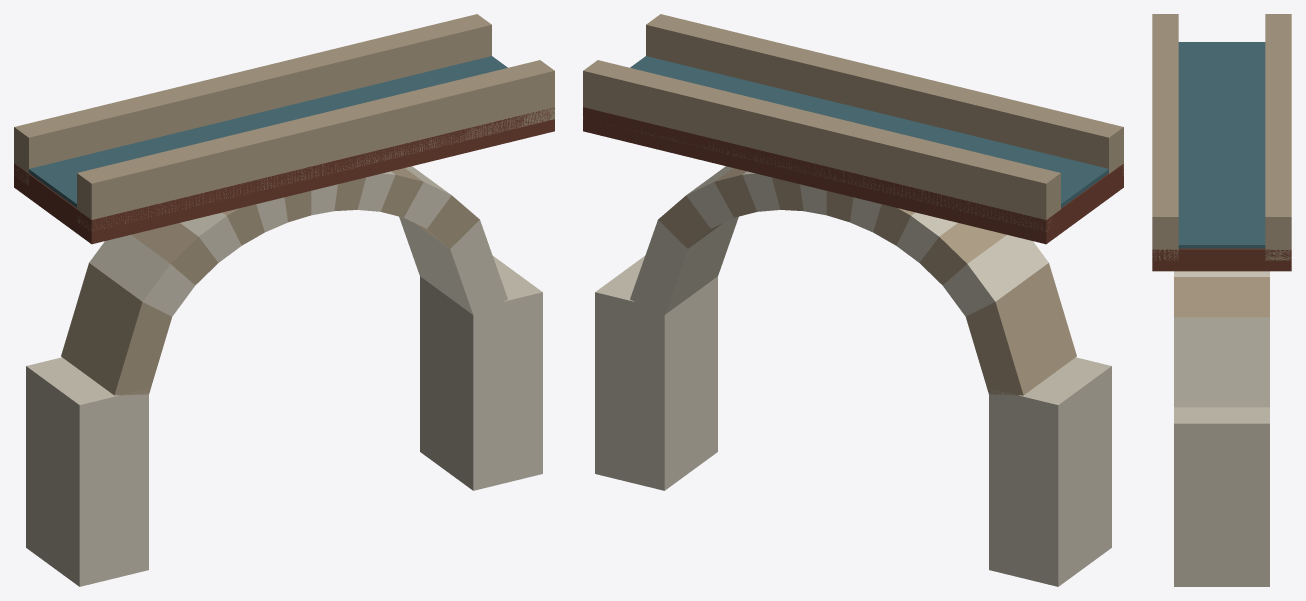
File: Aqueduct__Arch.fbx
3 renders of one model, left to right at view 1: azimuth 30°, elevation 25°; view 2: azimuth 150°, elevation 25°; view 3: azimuth 270°, elevation 25°, orthographic. The views are drawn at different scales.
Parts seen in each view (by area): view 1: Aqueduct__Arch; view 2: Aqueduct__Arch; view 3: Aqueduct__Arch.
Part boxes in pixels (x1=…): Aqueduct__Arch: x1=14, y1=14, x2=554, y2=586; Aqueduct__Arch: x1=583, y1=14, x2=1123, y2=586; Aqueduct__Arch: x1=1152, y1=14, x2=1291, y2=586.
Size of the model in its own units: 400 by 340 by 116.
Materials: 1 (1 with a texture image).
